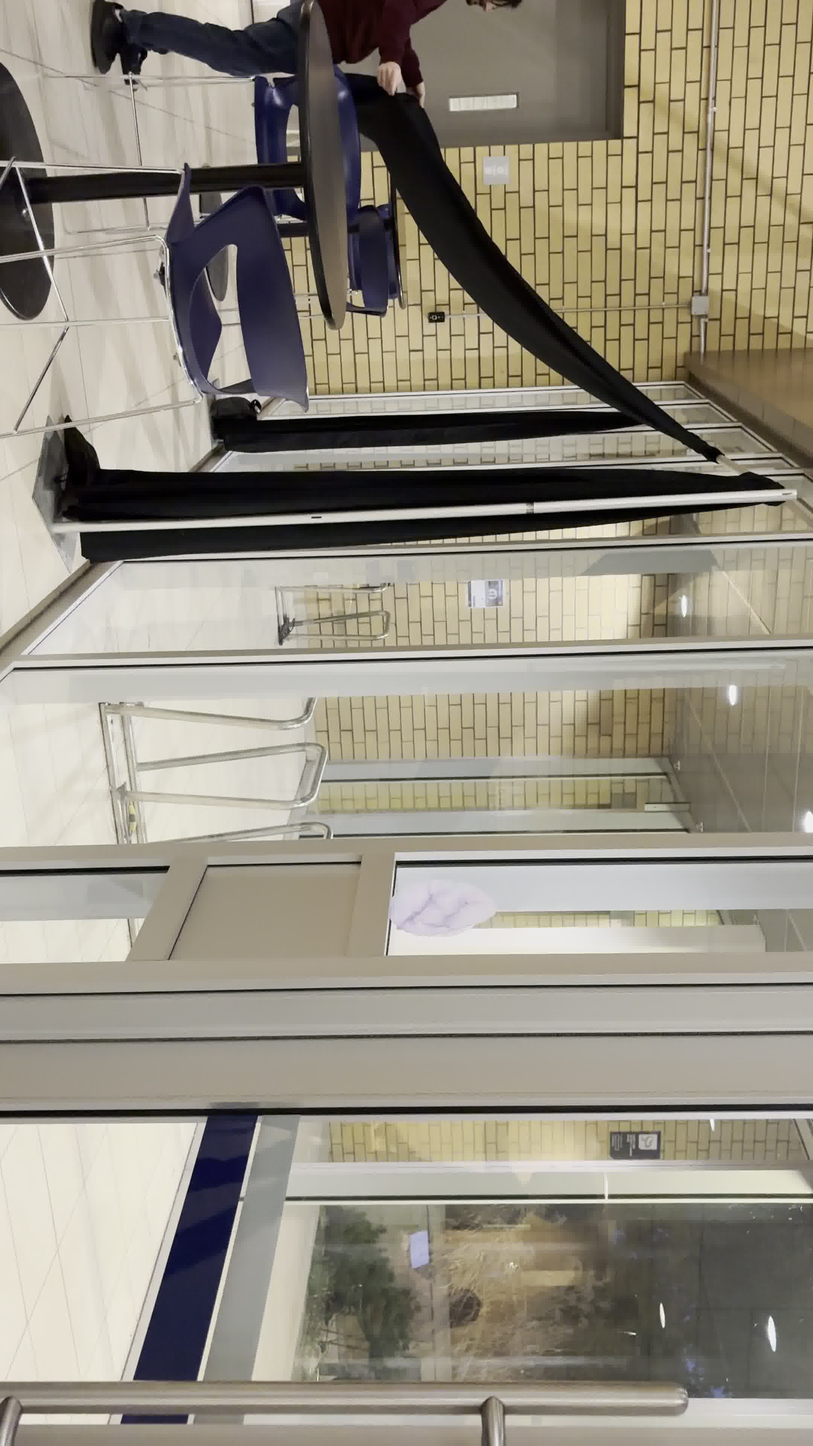Target: (386, 877, 499, 938)
